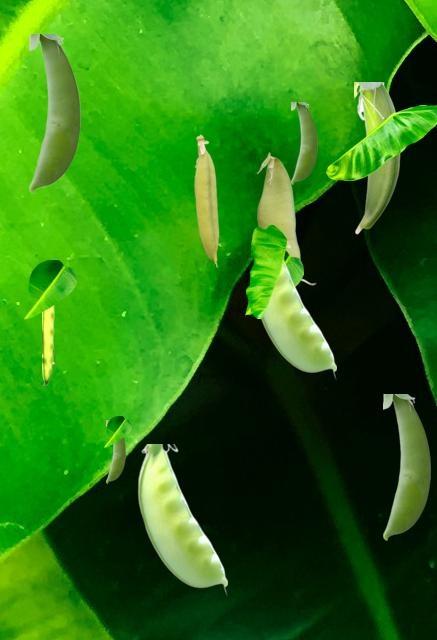pea: (137, 444, 226, 595), (260, 241, 335, 379), (29, 34, 79, 192), (256, 152, 315, 284), (354, 82, 400, 233), (383, 394, 429, 539), (194, 134, 218, 266), (291, 102, 316, 183), (106, 420, 124, 482), (42, 306, 55, 384)
